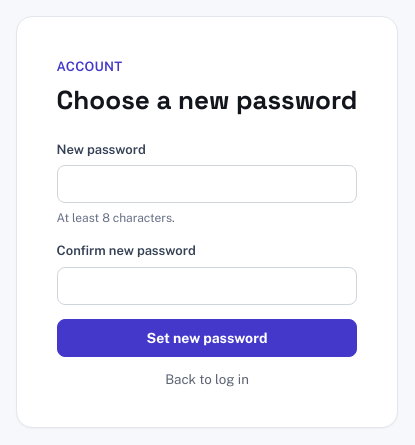
Test: ResetPassword › sends the token with the new password and confirms success
Type "hunter2222" into the password field labelled "New password". click: (207, 184)
box: [57,165,357,203]
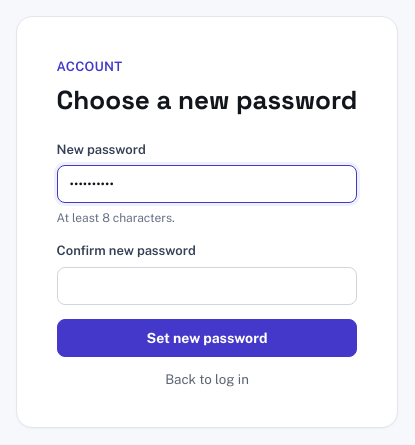
Type "hunter2222" into the password field labelled "Confirm new password". click: (207, 286)
box: [57,266,357,304]
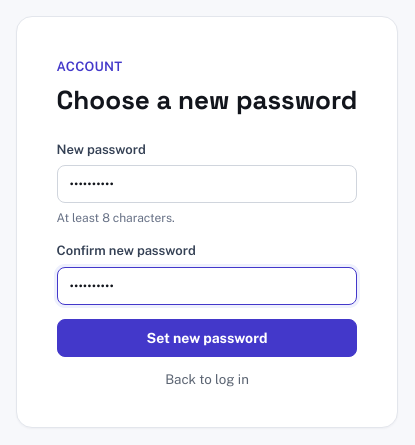
Click the button "Set new password". click: (207, 338)
box: [57,318,357,357]
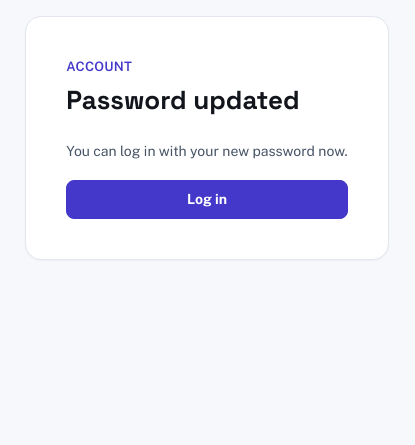
expect the text "Password updated" is shown: met, box [66,82,300,116]
